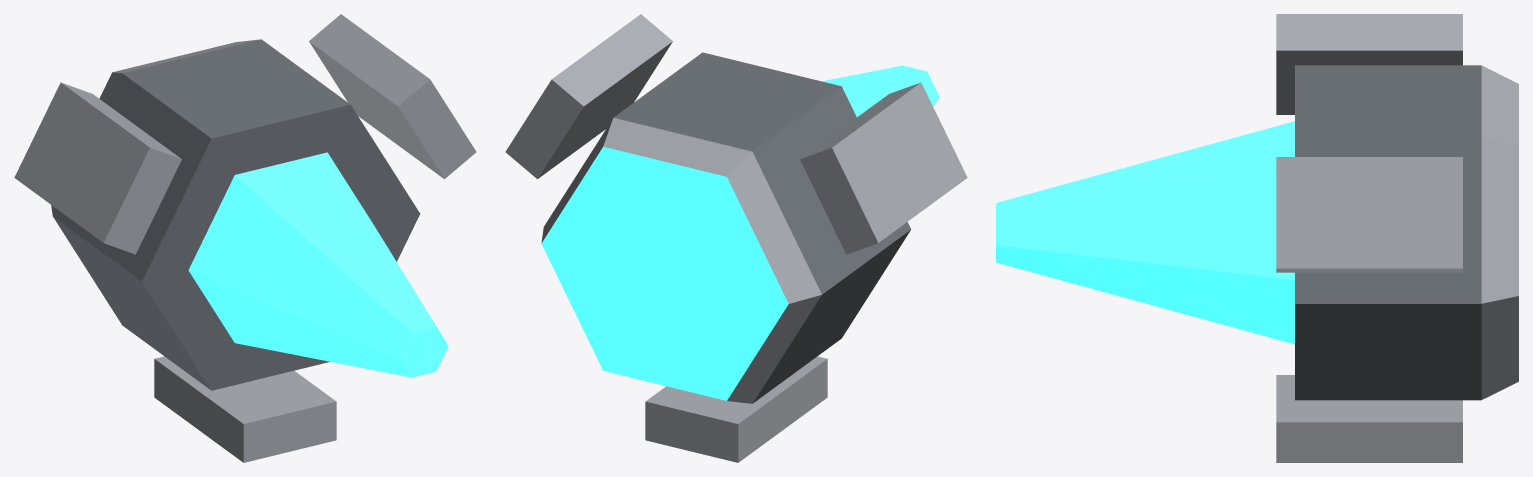
Rendered from Projectile_Nano_Shot.fbx.
3 views of the same model, side by side, from view 1: azimuth 30°, elevation 25°; view 2: azimuth 150°, elevation 25°; view 3: azimuth 270°, elevation 25° (orthographic). The views are drawn at different scales.
Parts seen in each view (by area): view 1: NT_Nanobot_Shot; view 2: NT_Nanobot_Shot; view 3: NT_Nanobot_Shot.
Part boxes in pixels (<box>): NT_Nanobot_Shot: <box>14,14,476,462</box>; NT_Nanobot_Shot: <box>505,14,967,462</box>; NT_Nanobot_Shot: <box>996,14,1518,462</box>.
Bounding box in the file's own units: 0.1207 × 0.1045 × 0.14.
